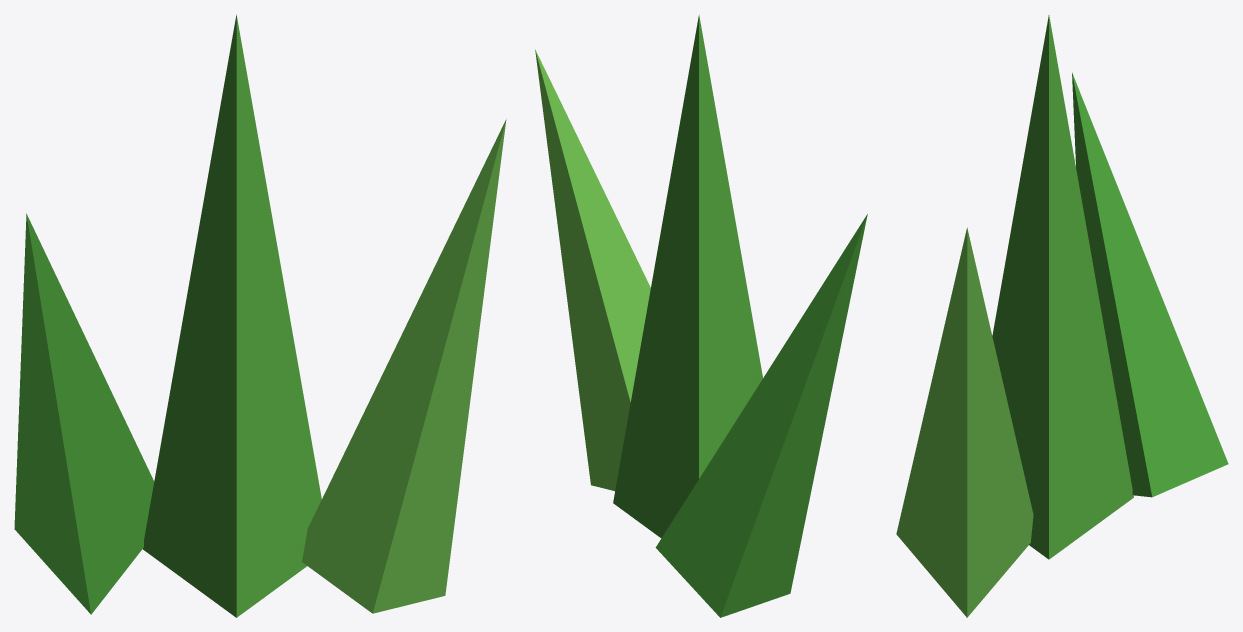
The model's file is grass.glb.
The picture shows the model from 3 angles, left to right: view 1: azimuth 30°, elevation 25°; view 2: azimuth 150°, elevation 25°; view 3: azimuth 270°, elevation 25°; orthographic projection. The views are drawn at different scales.
Visible parts, largest first — view 1: Blade1, Blade2, Blade3; view 2: Blade1, Blade3, Blade2; view 3: Blade1, Blade2, Blade3.
Boxes of the visible parts, x1=… form: Blade1: x1=143, y1=14, x2=321, y2=617; Blade2: x1=302, y1=119, x2=506, y2=613; Blade3: x1=14, y1=213, x2=154, y2=614; Blade1: x1=613, y1=14, x2=762, y2=538; Blade3: x1=655, y1=214, x2=867, y2=617; Blade2: x1=535, y1=49, x2=650, y2=490; Blade1: x1=992, y1=15, x2=1133, y2=559; Blade2: x1=896, y1=227, x2=1033, y2=617; Blade3: x1=1072, y1=72, x2=1228, y2=497.
Bounding box in the file's own units: 0.2691 × 0.3586 × 0.2031.
